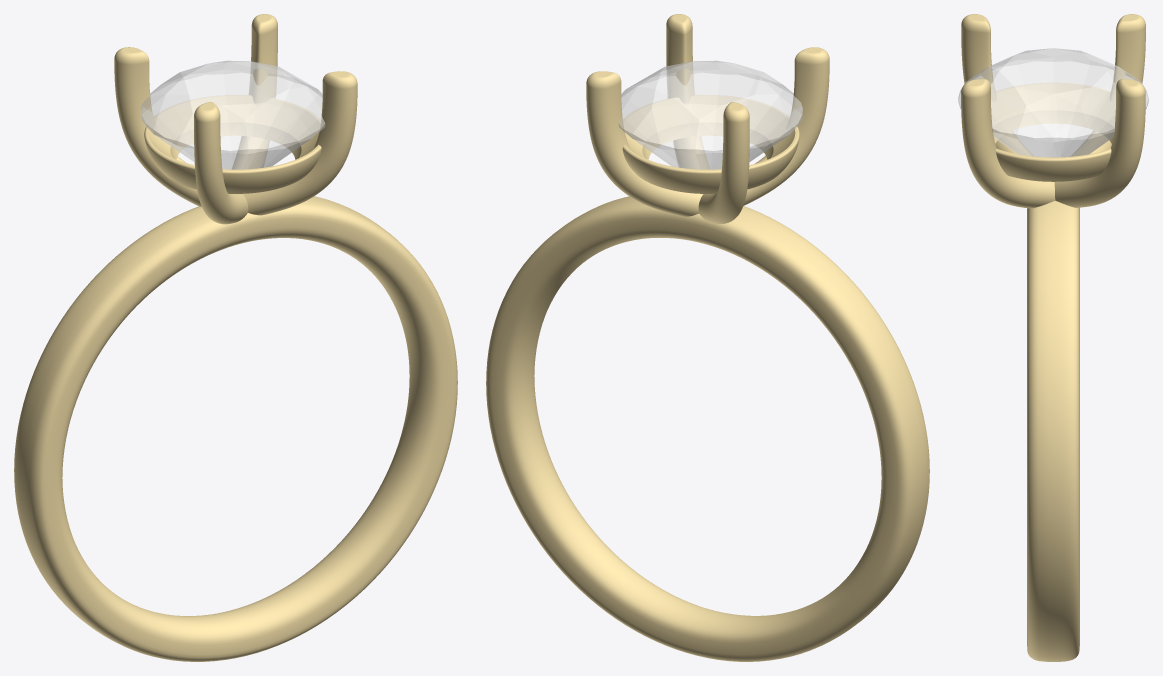
3 views of the same model, side by side, from view 1: azimuth 30°, elevation 25°; view 2: azimuth 150°, elevation 25°; view 3: azimuth 270°, elevation 25° (orthographic).
Parts seen in each view (by area): view 1: NNObj_6, NNObj_0, NNObj_1, NNObj_5, NNObj_3, NNObj_4, NNObj_2; view 2: NNObj_6, NNObj_0, NNObj_1, NNObj_2, NNObj_4, NNObj_3, NNObj_5; view 3: NNObj_6, NNObj_0, NNObj_1, NNObj_5, NNObj_2, NNObj_3, NNObj_4.
Part boxes in pixels (x1,y1,x2,y2): NNObj_6: (14,196,457,661); NNObj_0: (141,60,325,169); NNObj_1: (144,95,321,193); NNObj_5: (243,71,357,215); NNObj_3: (114,47,201,206); NNObj_4: (194,102,248,224); NNObj_2: (232,14,277,169); NNObj_6: (486,196,929,661); NNObj_0: (618,60,802,169); NNObj_1: (622,95,799,193); NNObj_2: (586,71,703,216); NNObj_4: (743,47,829,205); NNObj_3: (698,102,749,223); NNObj_5: (666,14,709,169); NNObj_6: (1027,200,1079,661); NNObj_0: (958,48,1148,157); NNObj_1: (991,83,1115,181); NNObj_5: (961,79,1055,208); NNObj_2: (1054,79,1145,207); NNObj_3: (1070,14,1145,156); NNObj_4: (961,14,1033,156).
Bounding box in the file's own units: 0.0208 × 0.0273 × 0.008.
